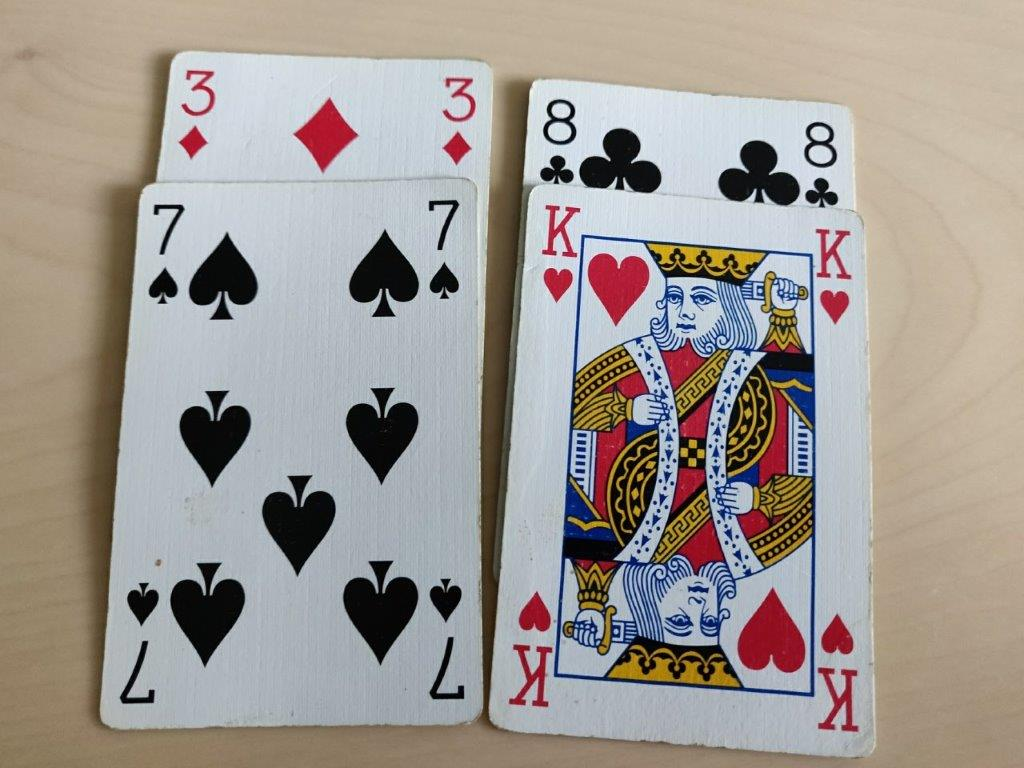3D: (170, 57, 220, 169), (435, 64, 485, 171)
7S: (139, 195, 189, 309), (420, 196, 470, 310)
8C: (538, 88, 578, 187), (802, 111, 842, 210)
KH: (529, 199, 588, 306), (808, 221, 862, 328)
